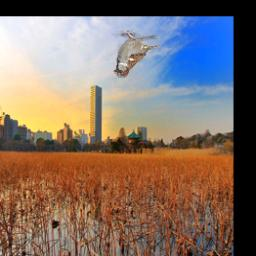Sparrow: (113, 32, 161, 79)
